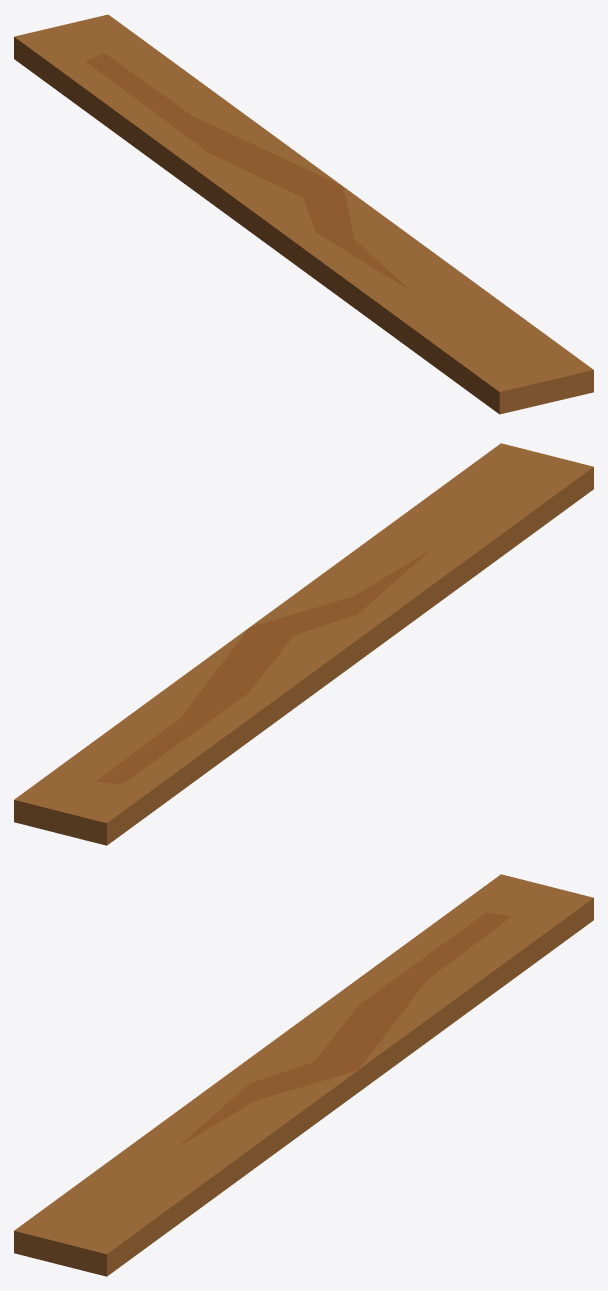
Rendered from Plank_2_1.fbx.
The picture shows the model from 3 angles, top to bottom: view 1: azimuth 30°, elevation 25°; view 2: azimuth 150°, elevation 25°; view 3: azimuth 330°, elevation 25°; orthographic projection.
Visible parts, largest first — view 1: Plank_2_1; view 2: Plank_2_1; view 3: Plank_2_1.
Boxes of the visible parts, x1,y1,x2,y2 form: Plank_2_1: (14, 14, 593, 414); Plank_2_1: (14, 443, 593, 845); Plank_2_1: (14, 874, 593, 1276).
Size of the model in its own units: 33.34 by 7.63 by 301.
